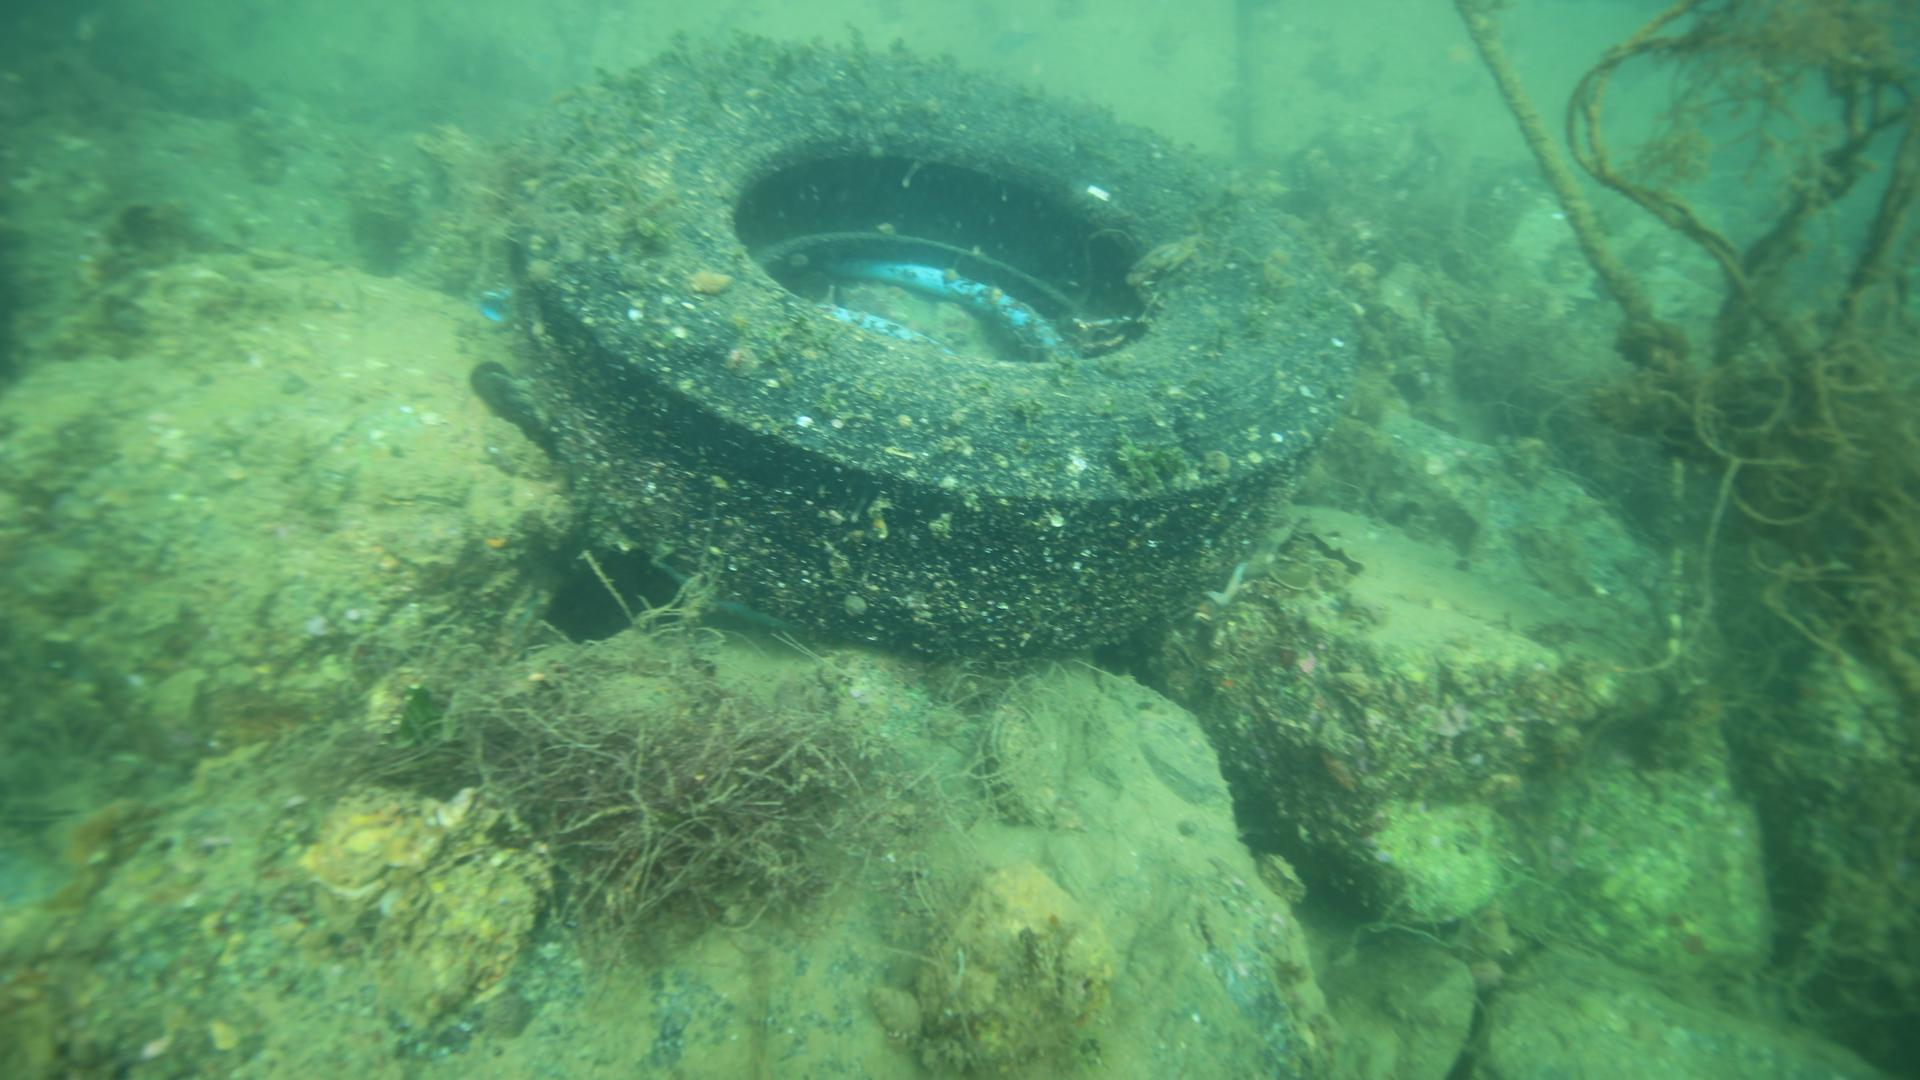tire: (508, 51, 1360, 650)
